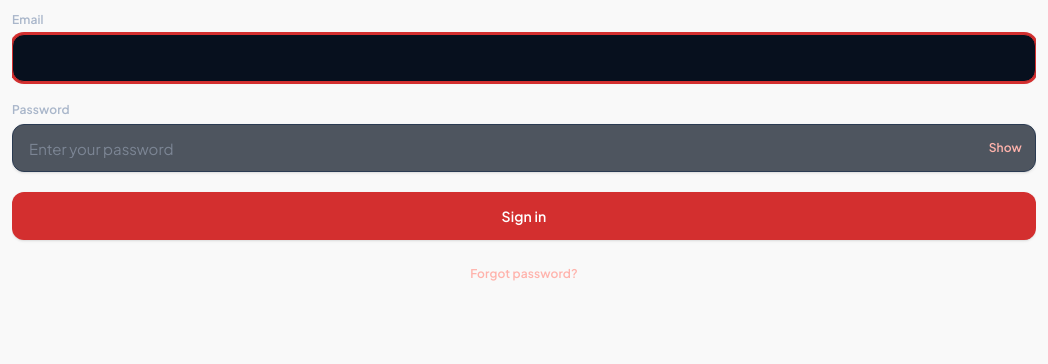
it: LoginForm › shows the mapped error, keeps the email, and clears the password
Type "admin@rajarata.test" into the field labelled "Email" at [524, 58], box [12,34,1036,82]
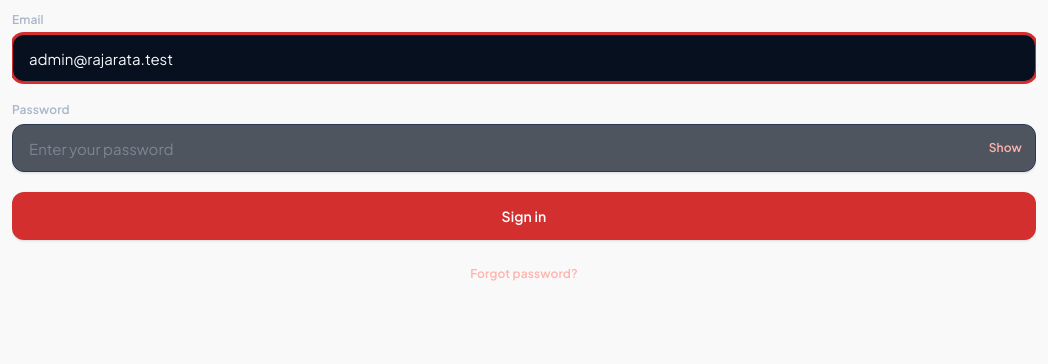
Type "WrongPassword1!" into the password field labelled "Password" at [524, 148], box [12,124,1036,172]
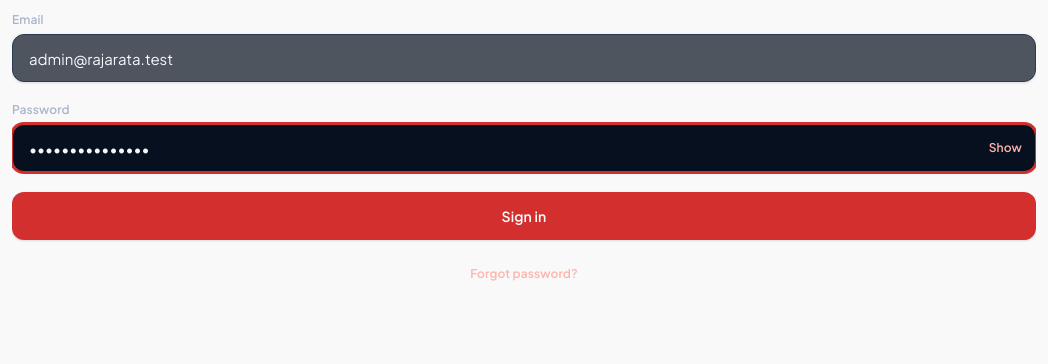
Click the button "Sign in" at [524, 216], box [12,192,1036,240]
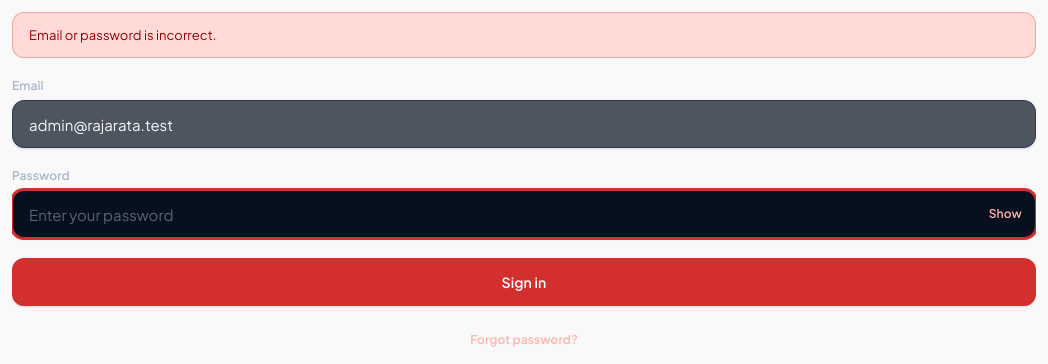
Now the text "Email or password is incorrect." is shown, box [12,12,1036,58]
Now the password field labelled "Password" is empty, box [12,190,1036,238]
